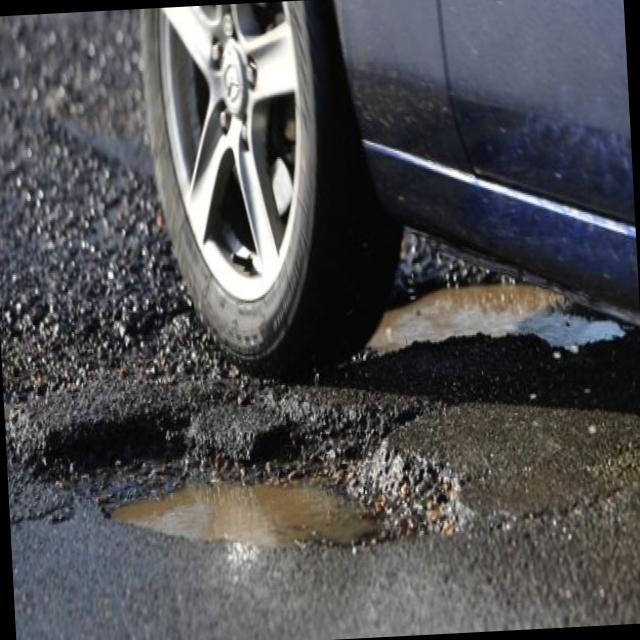bad-road: (97, 439, 467, 564), (386, 273, 546, 351)
